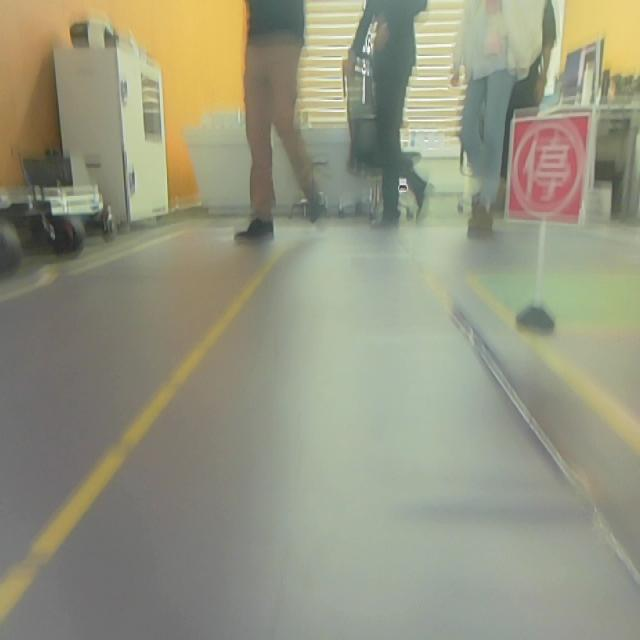left_lane: (1, 241, 289, 627)
right_lane: (470, 275, 640, 457)
